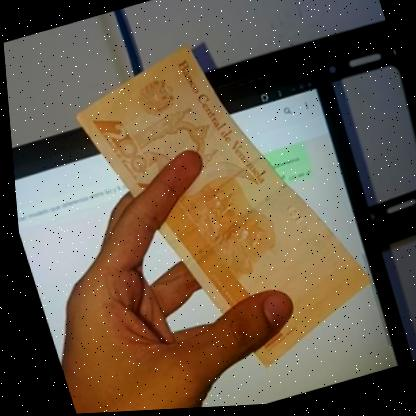twenty-back-vef: (57, 16, 390, 407)
